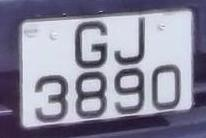0: (147, 58, 184, 115)
3: (31, 65, 73, 127)
8: (69, 66, 114, 119)
9: (109, 63, 149, 117)
G: (69, 17, 113, 71)
J: (111, 17, 149, 68)
